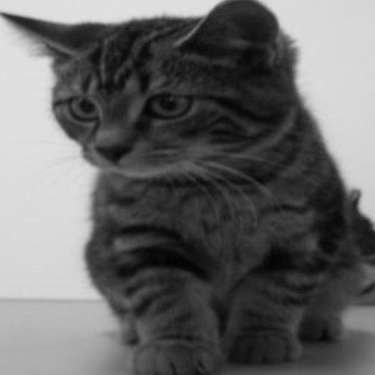cat: (1, 15, 364, 373)
